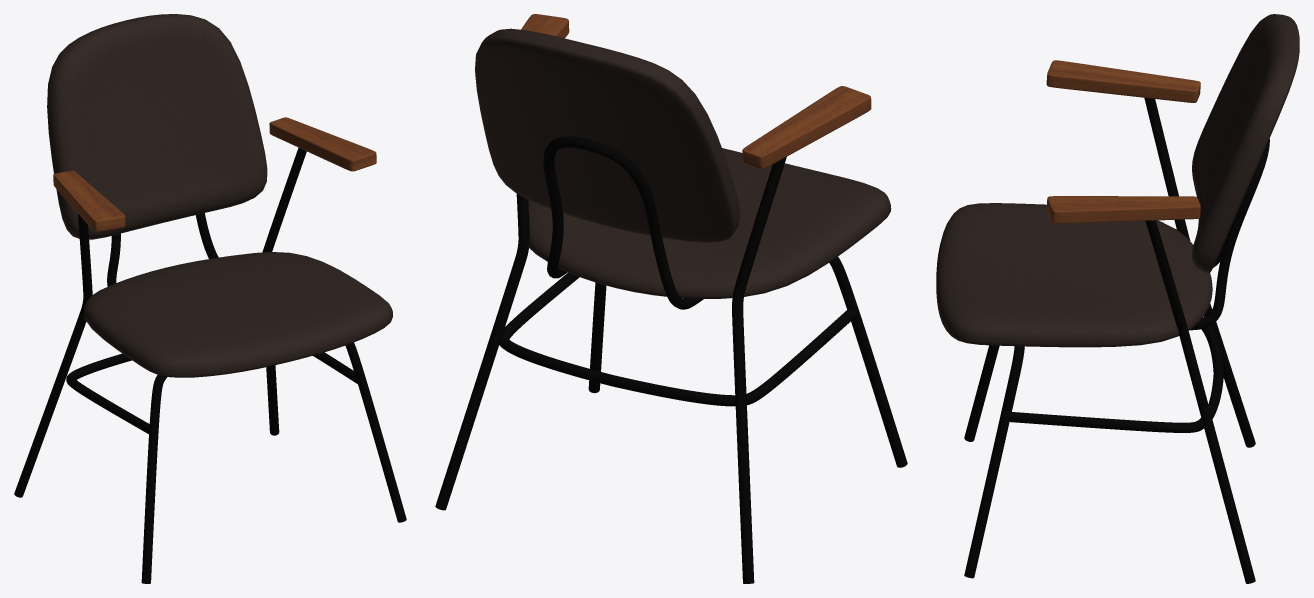
The model's file is chair_17_03.001.fbx.
3 views of the same model, side by side, from view 1: azimuth 30°, elevation 25°; view 2: azimuth 150°, elevation 25°; view 3: azimuth 270°, elevation 25° (orthographic). The views are drawn at different scales.
Visible parts, largest first — view 1: chair_17_03.001; view 2: chair_17_03.001; view 3: chair_17_03.001.
Part boxes in pixels (<box>): chair_17_03.001: <box>14,14,406,583</box>; chair_17_03.001: <box>435,14,907,583</box>; chair_17_03.001: <box>936,14,1299,583</box>.
Bounding box in the file's own units: 59.3 × 86.64 × 60.07.
Materials: 1 (1 with a texture image).
